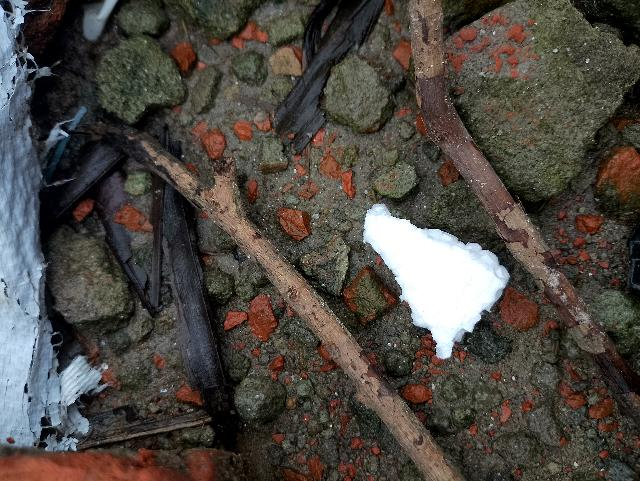cocksheet: (334, 191, 509, 359)
